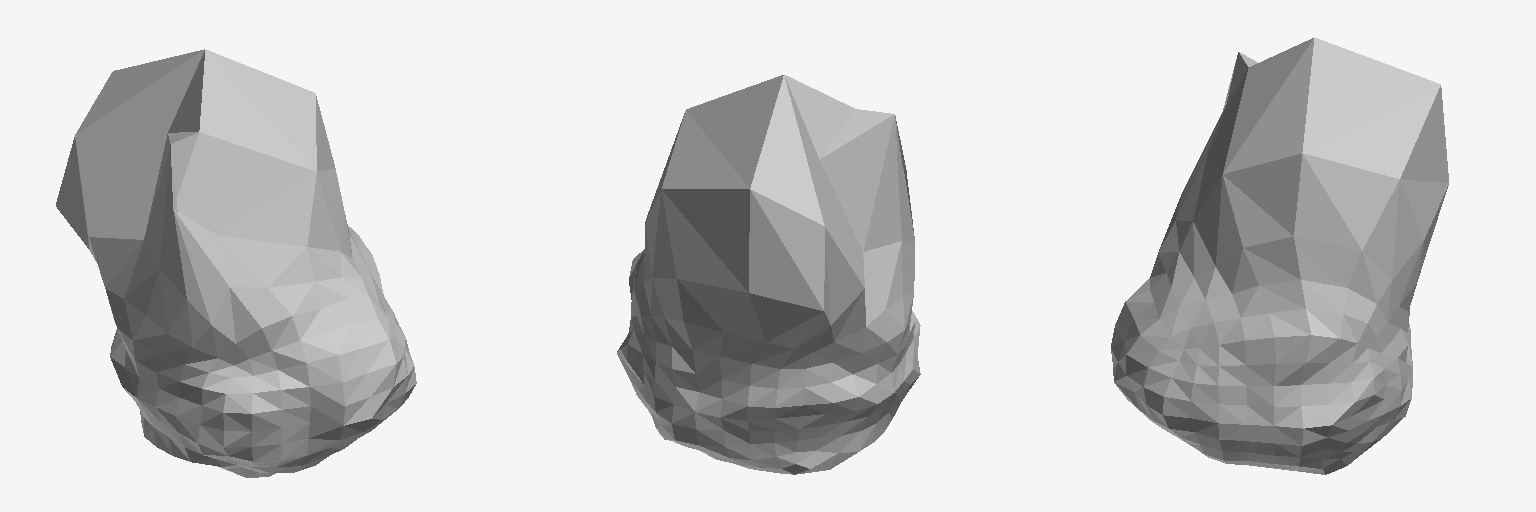
Rendered from rock.obj.
The picture shows the model from 3 angles: view 1: azimuth 30°, elevation 25°; view 2: azimuth 150°, elevation 25°; view 3: azimuth 270°, elevation 25°; orthographic projection.
Visible parts, largest first — view 1: Cube_Cube.005; view 2: Cube_Cube.005; view 3: Cube_Cube.005.
Part boxes in pixels (left/top/right/bottom): Cube_Cube.005: left=56, top=49, right=416, bottom=477; Cube_Cube.005: left=617, top=75, right=920, bottom=474; Cube_Cube.005: left=1111, top=37, right=1448, bottom=474.
Size of the model in its own units: 2.01 by 2.94 by 2.23.